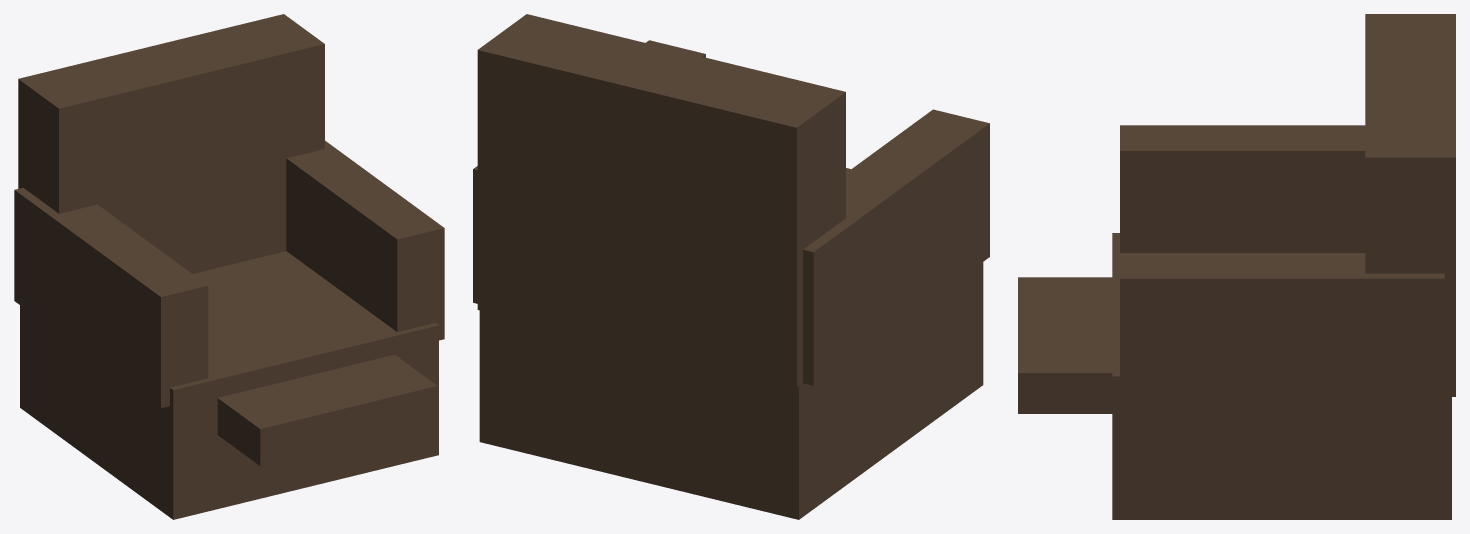
Rendered from recliner.glb.
3 views of the same model, side by side, from view 1: azimuth 30°, elevation 25°; view 2: azimuth 150°, elevation 25°; view 3: azimuth 270°, elevation 25° (orthographic). The views are drawn at different scales.
Parts seen in each view (by area): view 1: recliner; view 2: recliner; view 3: recliner.
Boxes of the visible parts, x1,y1,x2,y2 form: recliner: [14, 14, 444, 519]; recliner: [473, 14, 989, 519]; recliner: [1018, 14, 1455, 519].
Size of the model in its own units: 0.9601 by 1.06 by 1.16.
